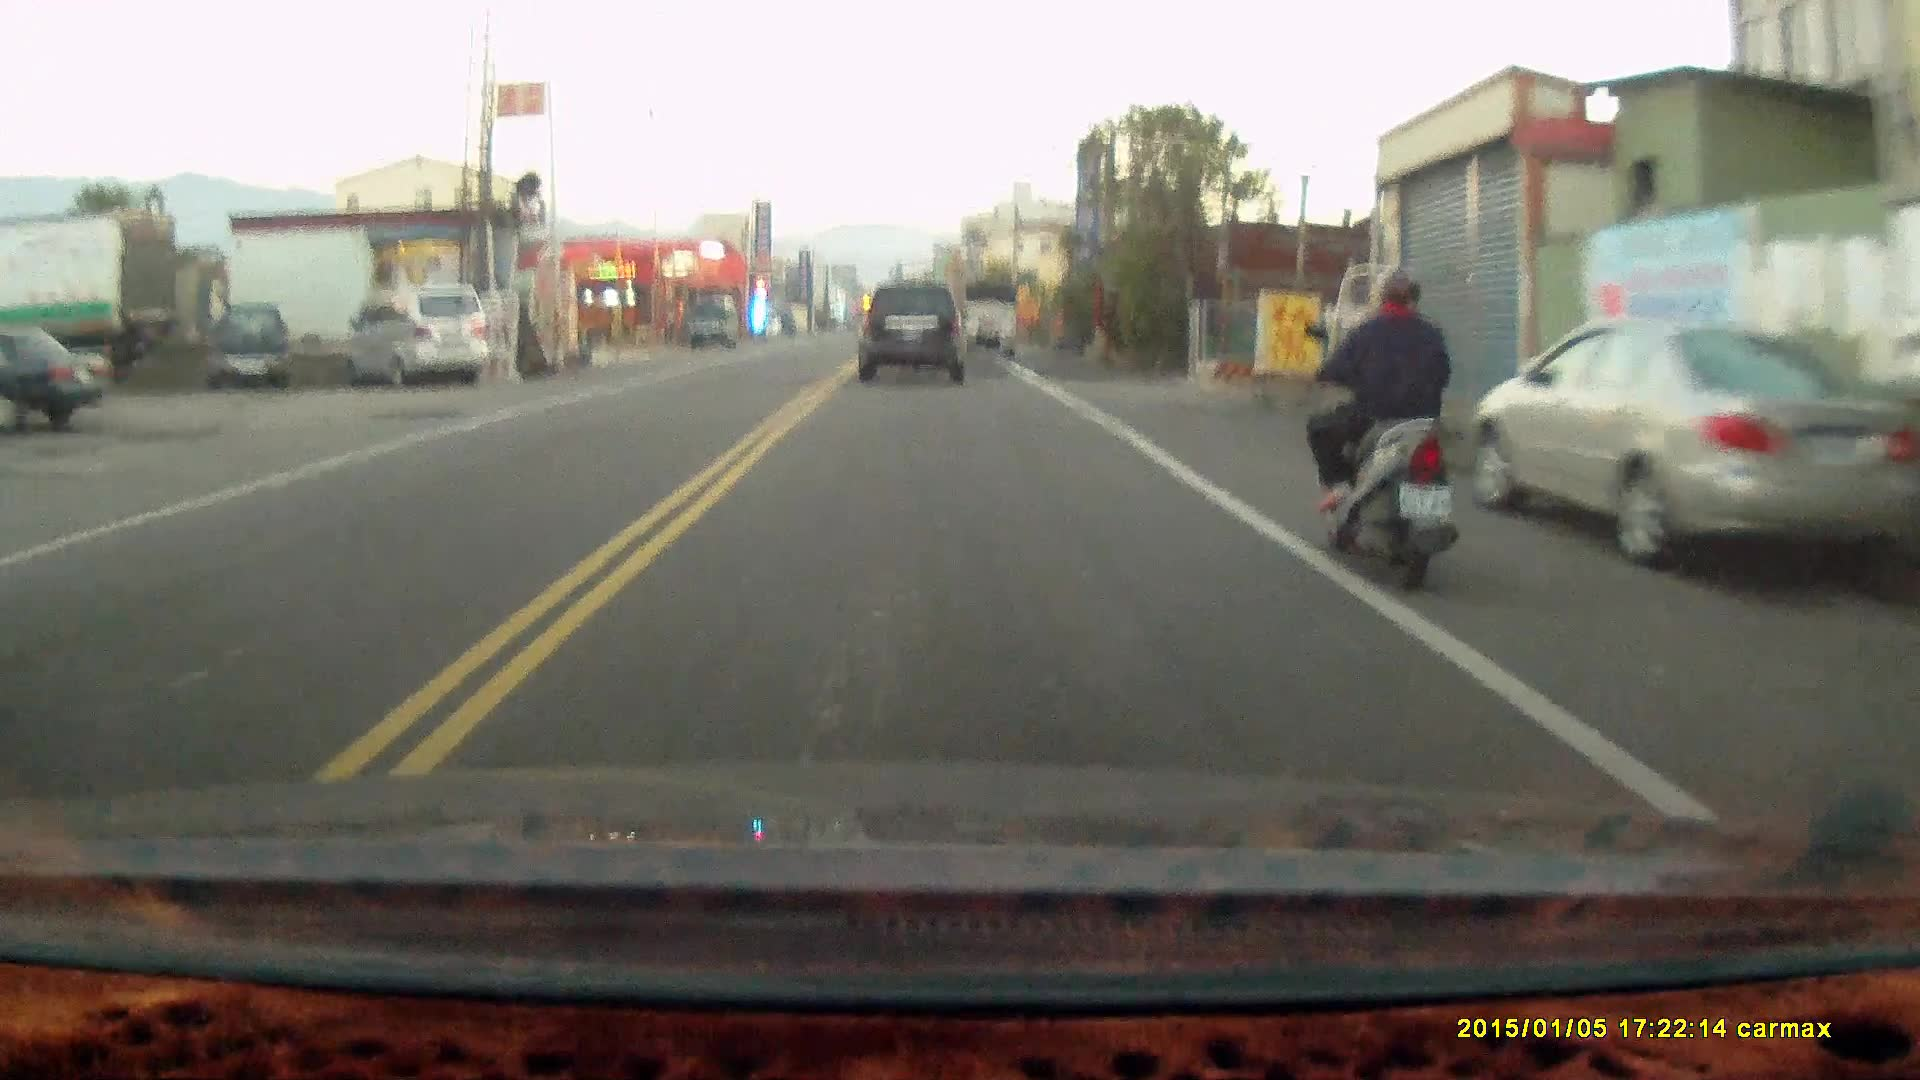rider: (1302, 261, 1460, 590)
vehicle: (1480, 319, 1906, 568), (348, 286, 491, 387), (856, 274, 974, 384), (2, 325, 114, 429), (208, 302, 292, 393), (960, 277, 1021, 359)
